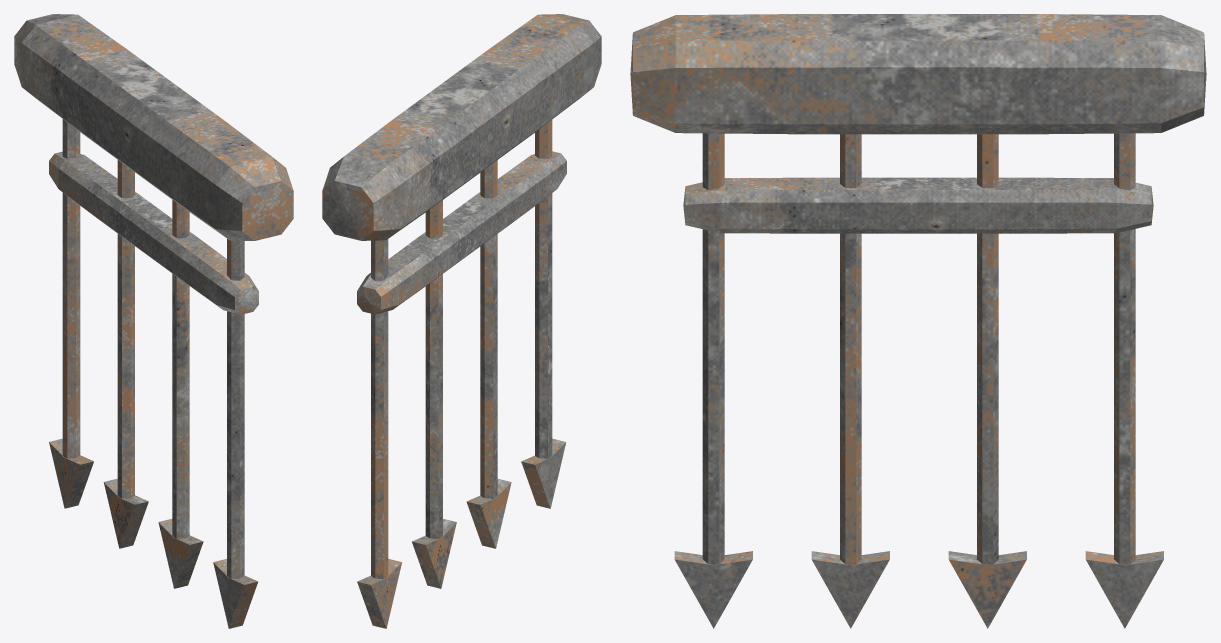
The model's file is iron_bars.fbx.
3 views of the same model, side by side, from view 1: azimuth 30°, elevation 25°; view 2: azimuth 150°, elevation 25°; view 3: azimuth 270°, elevation 25° (orthographic). The views are drawn at different scales.
Parts seen in each view (by area): view 1: Cube, iron_bar, Cube.001; view 2: Cube, iron_bar, Cube.001; view 3: Cube, iron_bar, Cube.001.
Boxes of the visible parts, x1=… form: Cube: x1=14, y1=14, x2=293, y2=240; iron_bar: x1=49, y1=119, x2=258, y2=628; Cube.001: x1=49, y1=151, x2=258, y2=314; Cube: x1=322, y1=14, x2=601, y2=240; iron_bar: x1=357, y1=120, x2=566, y2=628; Cube.001: x1=357, y1=151, x2=566, y2=314; Cube: x1=630, y1=14, x2=1206, y2=134; iron_bar: x1=674, y1=133, x2=1163, y2=628; Cube.001: x1=683, y1=177, x2=1153, y2=233.
Size of the model in its own units: 196 by 1248 by 1091.
